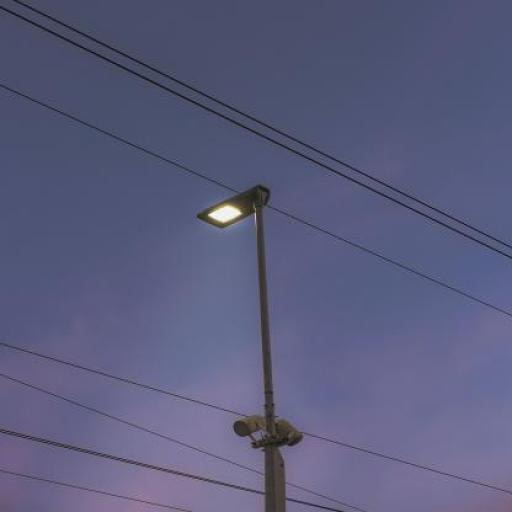street light: (196, 186, 302, 511)
